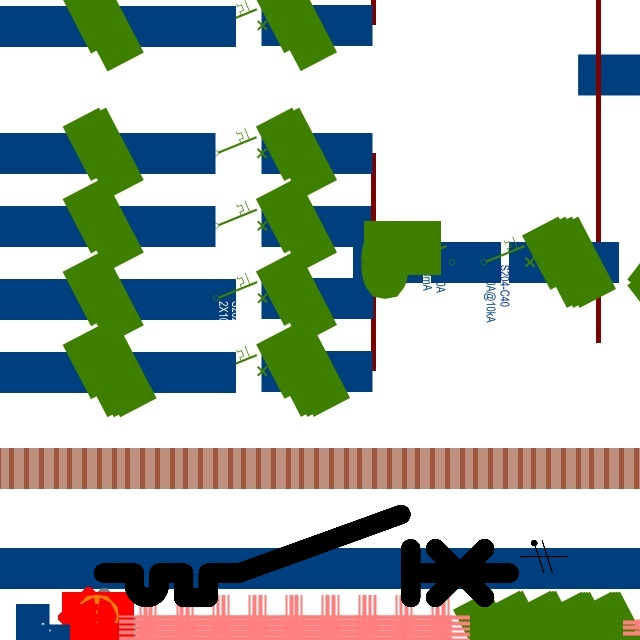interruptor_termomagnetico: (93, 504, 519, 608)
